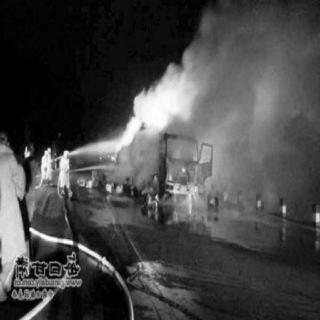Fire: (109, 66, 188, 210)
Smoke: (205, 18, 302, 200)
